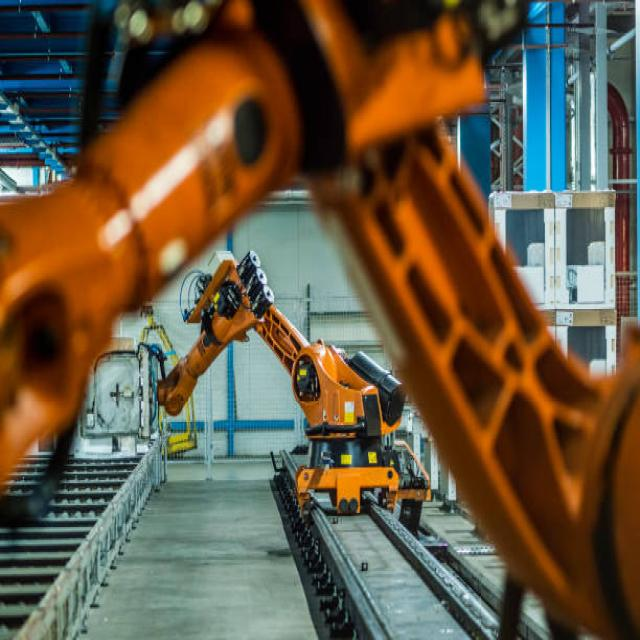Robotic-arm: (0, 0, 640, 640), (148, 244, 408, 503)
